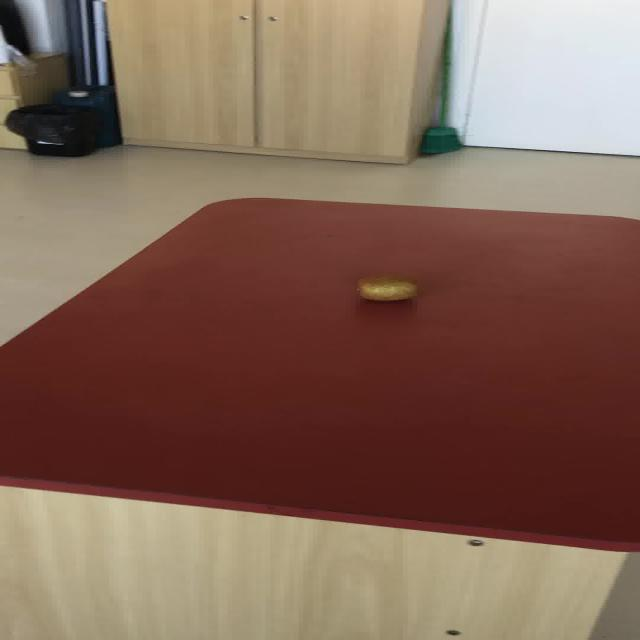kiwi: (356, 276, 417, 301)
